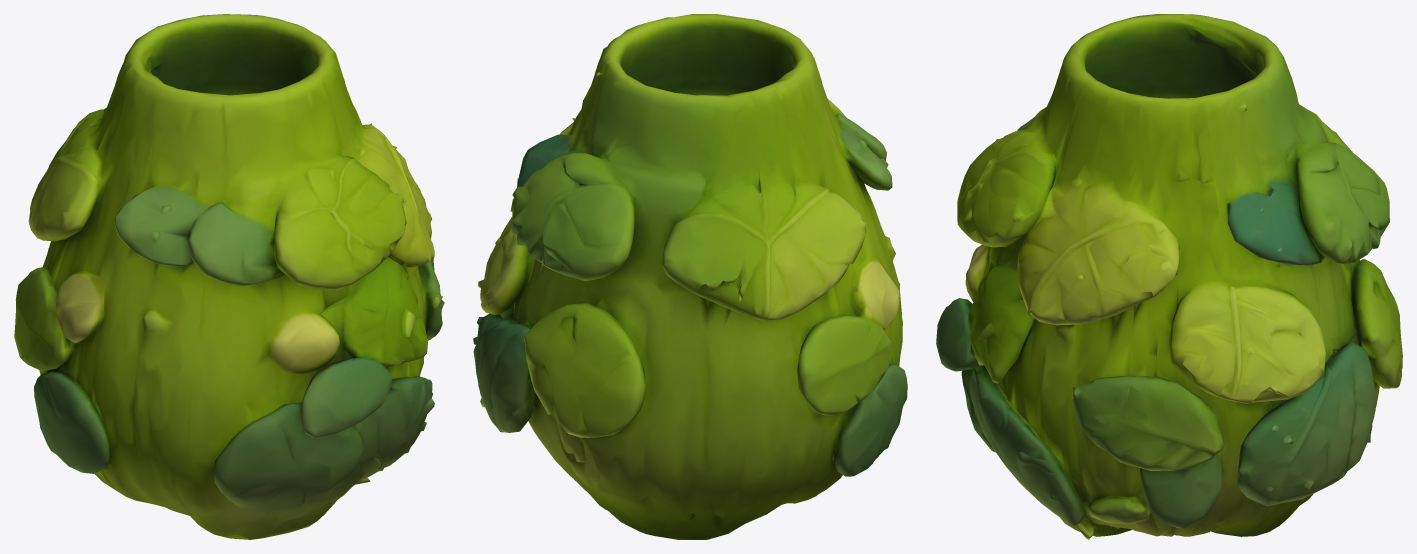
Rendered from body.glb.
3 renders of one model, left to right at view 1: azimuth 30°, elevation 25°; view 2: azimuth 150°, elevation 25°; view 3: azimuth 270°, elevation 25°, orthographic. The views are drawn at different scales.
Visible parts, largest first — view 1: tripo_node_d3a84061-24b5-4502-8757-d74d70145142; view 2: tripo_node_d3a84061-24b5-4502-8757-d74d70145142; view 3: tripo_node_d3a84061-24b5-4502-8757-d74d70145142.
Part boxes in pixels (x1=…): tripo_node_d3a84061-24b5-4502-8757-d74d70145142: x1=14, y1=14, x2=444, y2=539; tripo_node_d3a84061-24b5-4502-8757-d74d70145142: x1=473, y1=14, x2=907, y2=539; tripo_node_d3a84061-24b5-4502-8757-d74d70145142: x1=936, y1=14, x2=1402, y2=539.
Size of the model in its own units: 0.8878 by 1 by 0.929.
1 material, 1 textured.
